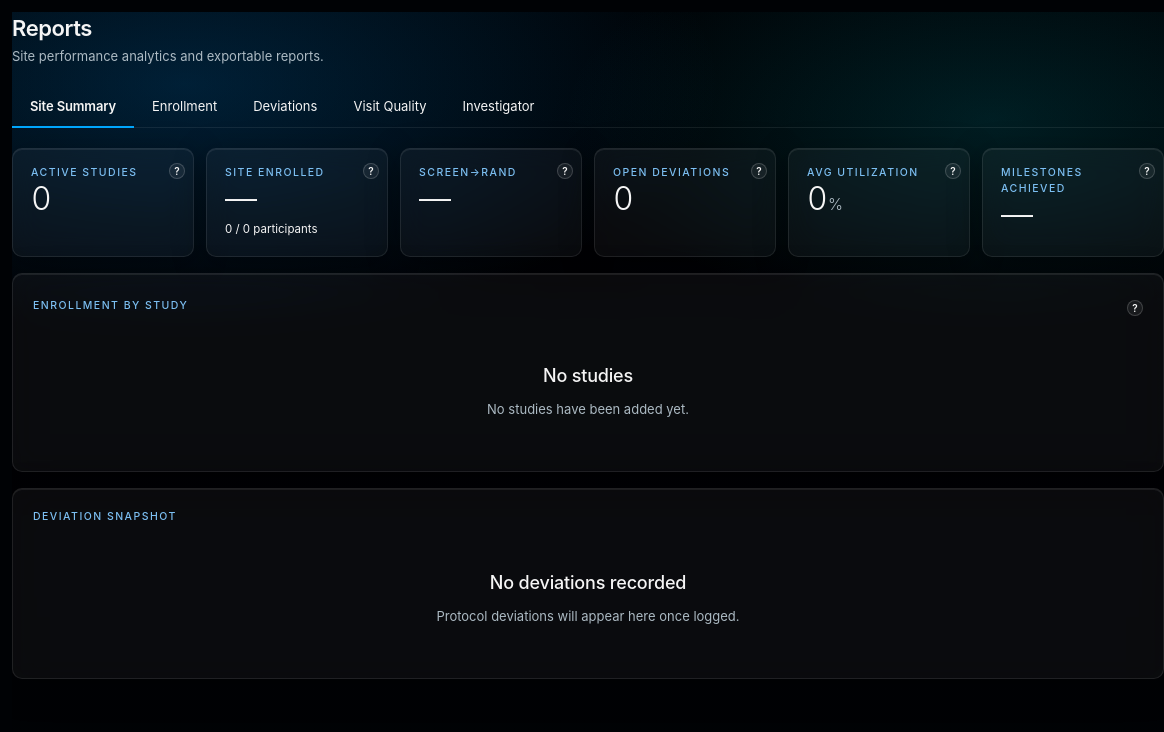
Reports › shows investigator heatmap on Investigator tab
Step 1. Click the tab "Investigator" → x=498, y=107, box [444, 86, 552, 128]
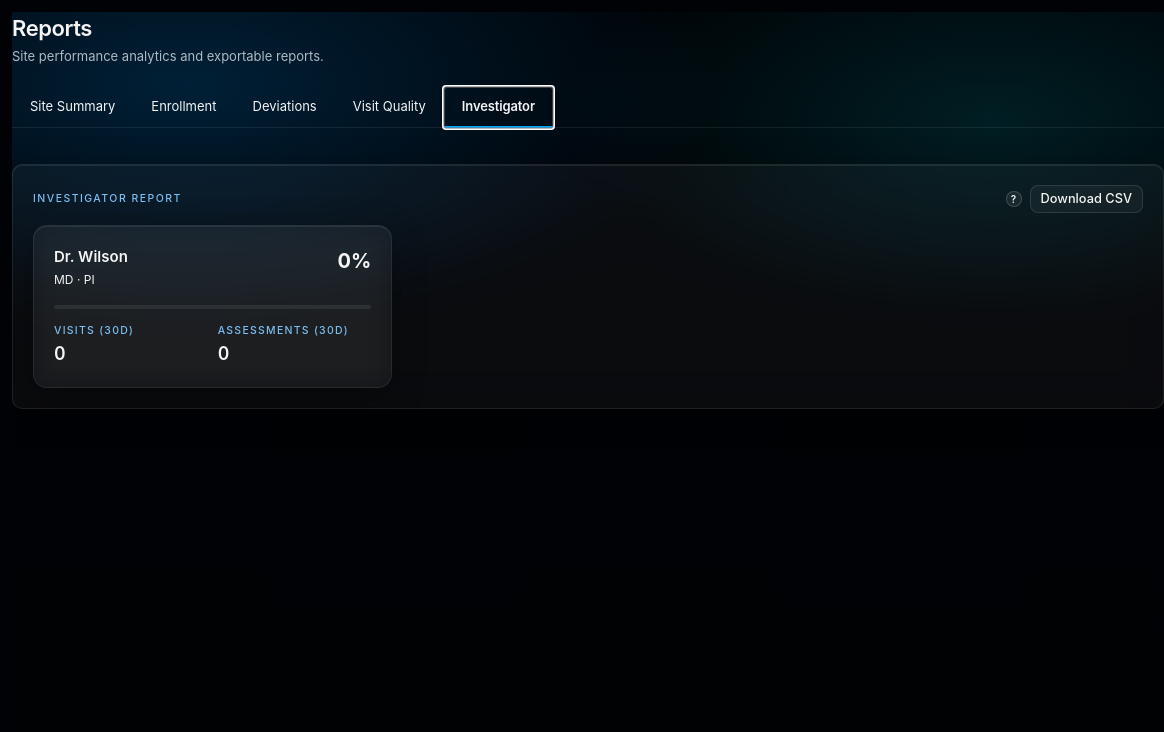
Check: the text "Dr. Wilson" is shown, box [54, 246, 128, 268]
